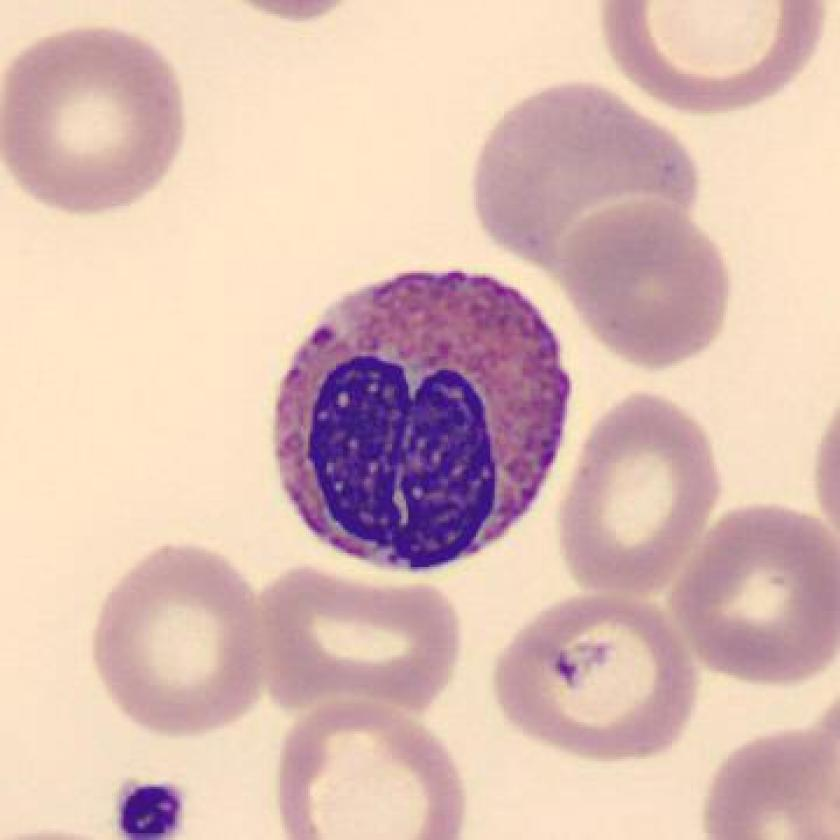eosinophil: (253, 255, 580, 582)
